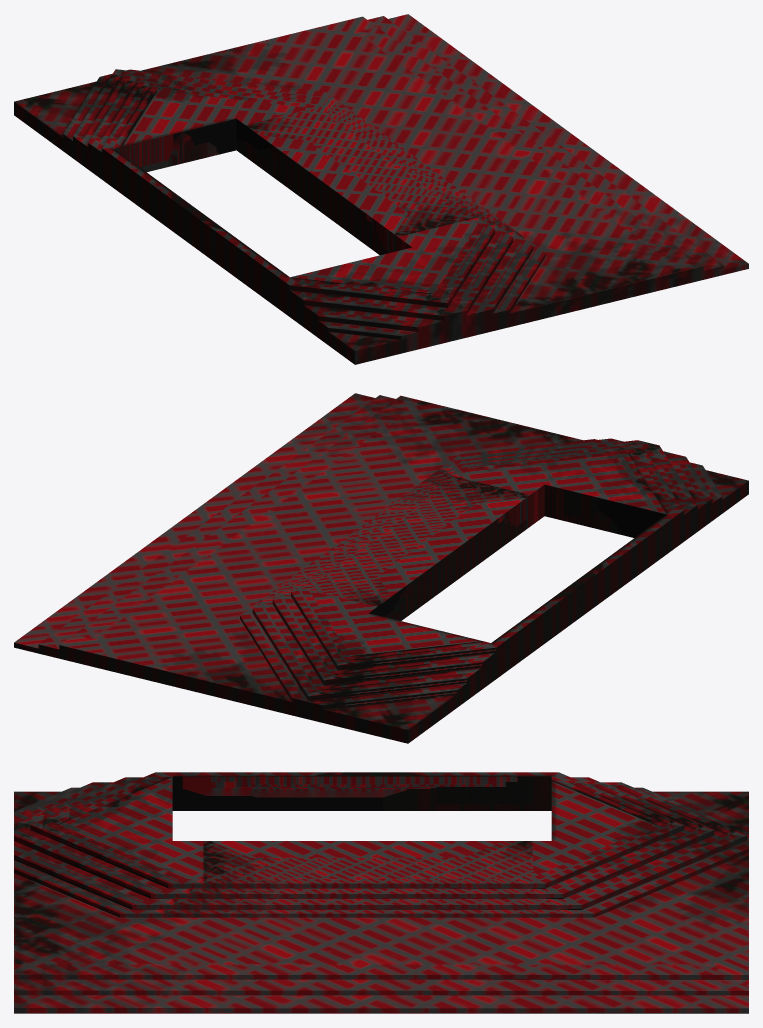
3 views of the same model, one above another, from view 1: azimuth 30°, elevation 25°; view 2: azimuth 150°, elevation 25°; view 3: azimuth 270°, elevation 25° (orthographic). The views are drawn at different scales.
Visible parts, largest first — view 1: stairfloor.005; view 2: stairfloor.005; view 3: stairfloor.005.
Boxes of the visible parts, <box> form: stairfloor.005: <box>14,14,748,364</box>; stairfloor.005: <box>14,393,748,743</box>; stairfloor.005: <box>14,772,748,1013</box>.
Size of the model in its own units: 6.45 by 0.4942 by 9.66.
Materials: 1 (1 with a texture image).
